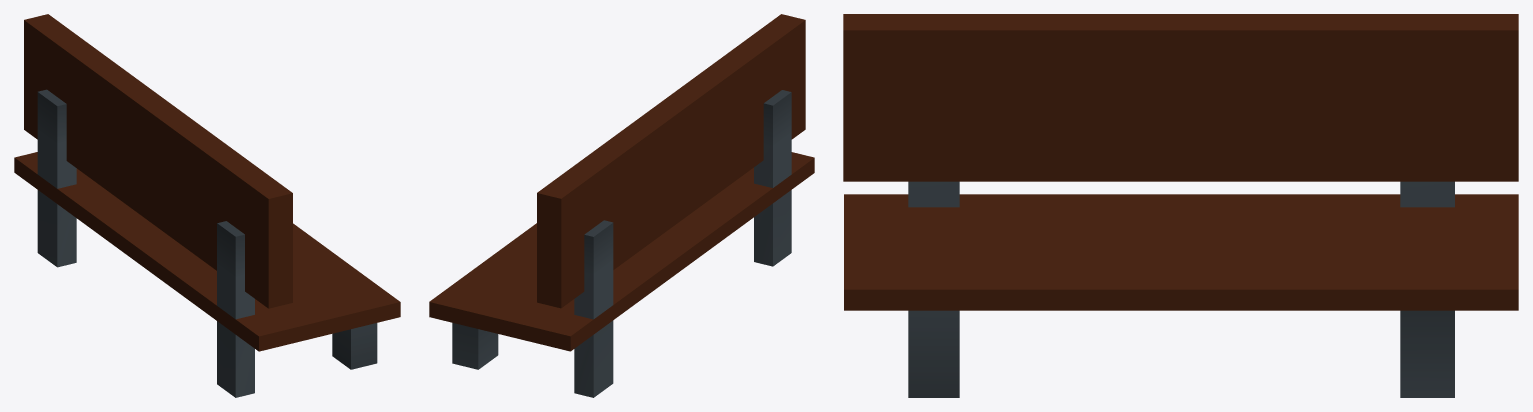
The model's file is Banco.fbx.
The picture shows the model from 3 angles, left to right: view 1: azimuth 30°, elevation 25°; view 2: azimuth 150°, elevation 25°; view 3: azimuth 270°, elevation 25°; orthographic projection. The views are drawn at different scales.
Visible parts, largest first — view 1: banco; view 2: banco; view 3: banco.
Part boxes in pixels (x1,y1,x2,y2): banco: (14,14,400,397); banco: (429,14,814,397); banco: (843,14,1518,397).
Bounding box in the file's own units: 345 × 498 × 1034.
